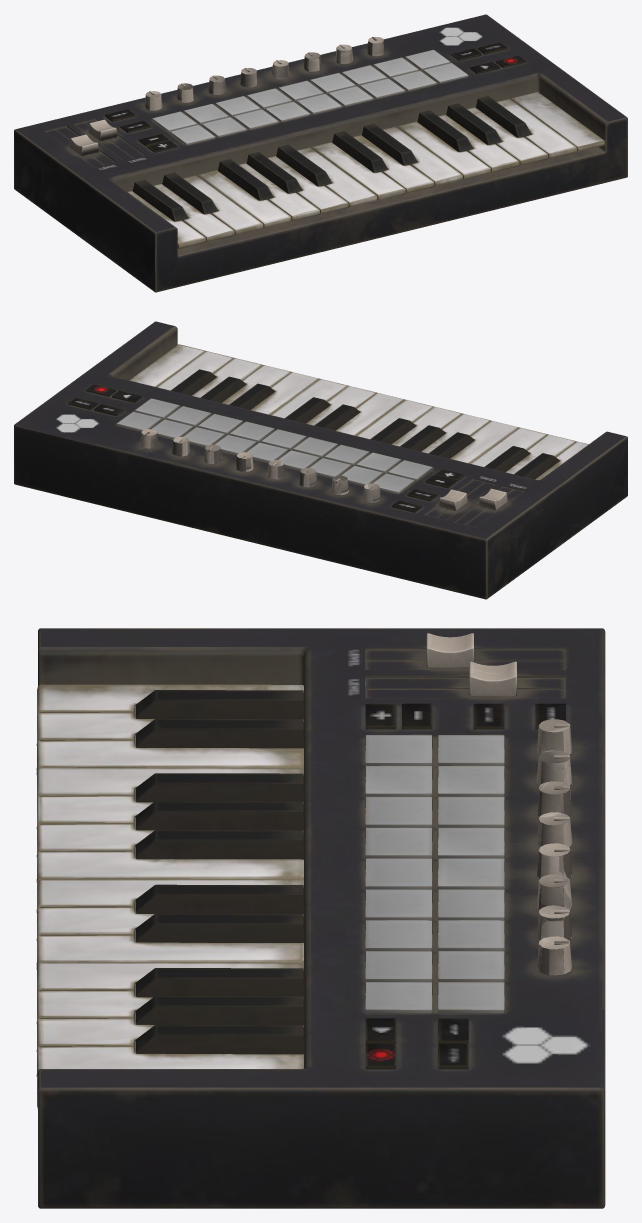
3 views of the same model, one above another, from view 1: azimuth 30°, elevation 25°; view 2: azimuth 150°, elevation 25°; view 3: azimuth 270°, elevation 25° (orthographic). The views are drawn at different scales.
Parts seen in each view (by area): view 1: Teclas Brancas; view 2: Teclas Brancas; view 3: Teclas Brancas.
Boxes of the visible parts, left/top/right/bottom form: Teclas Brancas: left=14, top=14, right=627, bottom=292; Teclas Brancas: left=14, top=321, right=627, bottom=599; Teclas Brancas: left=36, top=628, right=605, bottom=1208.
Bounding box in the file's own units: 21.23 × 3.16 × 11.04.
1 material, 1 textured.
